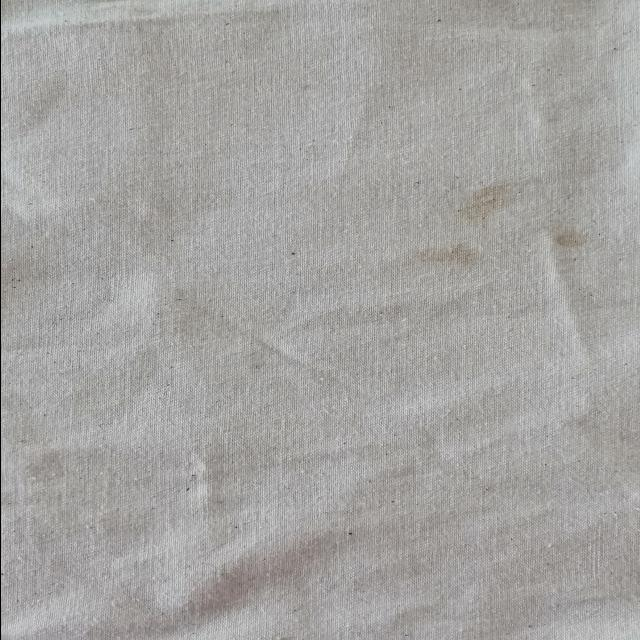taaaches: (430, 176, 530, 222), (387, 237, 487, 274), (545, 225, 594, 254)
